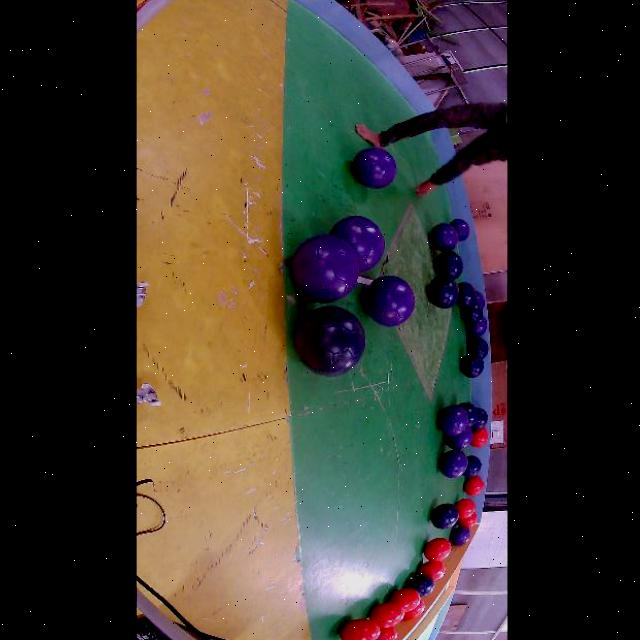B: (293, 306, 364, 377), (426, 276, 459, 308), (433, 251, 462, 280), (429, 503, 457, 529), (404, 575, 434, 597), (459, 353, 483, 378), (455, 282, 475, 308), (459, 302, 482, 324), (459, 402, 477, 427), (461, 455, 481, 477), (466, 338, 487, 358), (470, 409, 487, 431)
P: (290, 235, 358, 303), (330, 215, 384, 273), (363, 276, 413, 326), (352, 147, 395, 188), (437, 405, 468, 436), (429, 223, 457, 251), (438, 450, 466, 478), (443, 426, 472, 450), (448, 526, 470, 546), (450, 219, 469, 241), (466, 317, 486, 337), (475, 291, 484, 308)
R: (368, 602, 403, 628), (338, 619, 379, 640), (388, 588, 420, 613), (422, 538, 450, 562), (418, 561, 444, 580), (462, 476, 483, 497), (403, 600, 424, 619), (455, 498, 474, 518), (469, 428, 487, 447), (376, 627, 397, 640), (456, 513, 475, 527)
